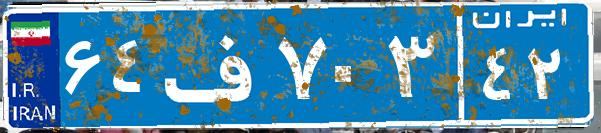0: (330, 28, 385, 110)
2: (525, 38, 570, 115)
3: (385, 28, 445, 110)
4: (475, 38, 525, 113), (110, 28, 158, 105)
6: (57, 26, 110, 107)
7: (273, 28, 330, 110)
ف: (158, 15, 273, 115)
